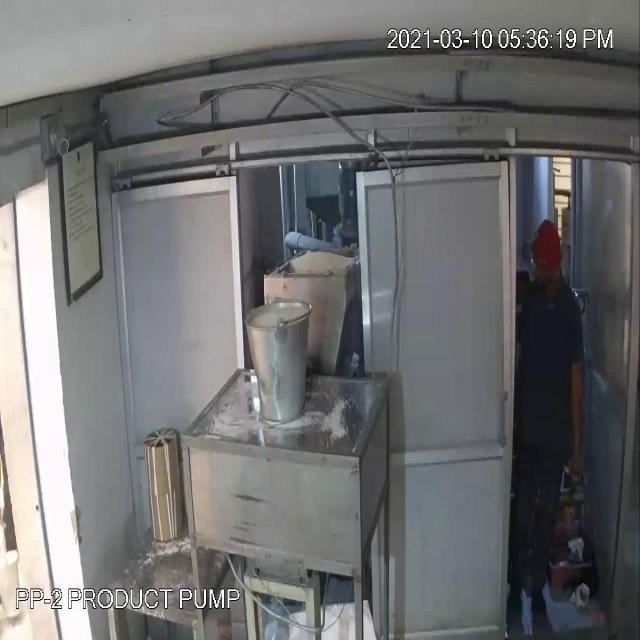No_Gloves: (568, 356, 593, 497)
